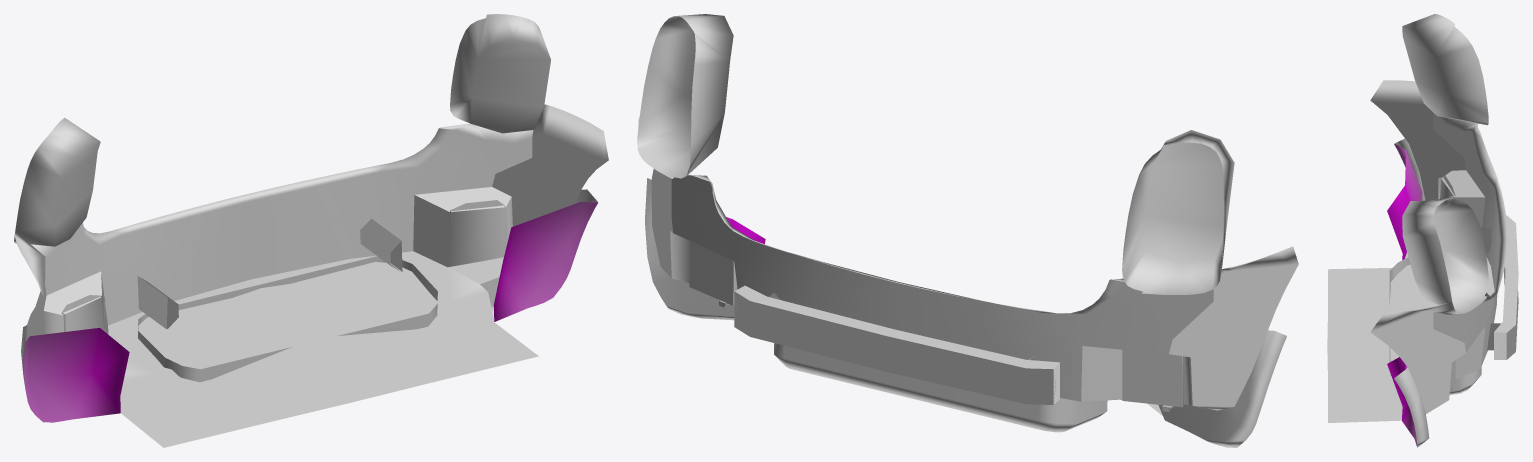
Rendered from Car_Mini_CountrymanJCW_2017_BumperChassisR_SetD.fbx.
3 views of the same model, side by side, from view 1: azimuth 30°, elevation 25°; view 2: azimuth 150°, elevation 25°; view 3: azimuth 270°, elevation 25° (orthographic). The views are drawn at different scales.
Parts seen in each view (by area): view 1: BumperChassisR 6; view 2: BumperChassisR 6; view 3: BumperChassisR 6.
Boxes of the visible parts, <box> form: BumperChassisR 6: <box>14,14,608,447</box>; BumperChassisR 6: <box>637,14,1298,447</box>; BumperChassisR 6: <box>1327,14,1518,447</box>.
Bounding box in the file's own units: 1.7 × 0.8115 × 0.5877.
